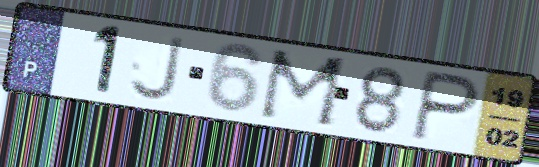1: (87, 23, 125, 100)
6: (202, 41, 270, 118)
8: (350, 64, 411, 136)
J: (126, 33, 186, 104)
M: (254, 46, 353, 131)
P: (408, 67, 483, 145)
